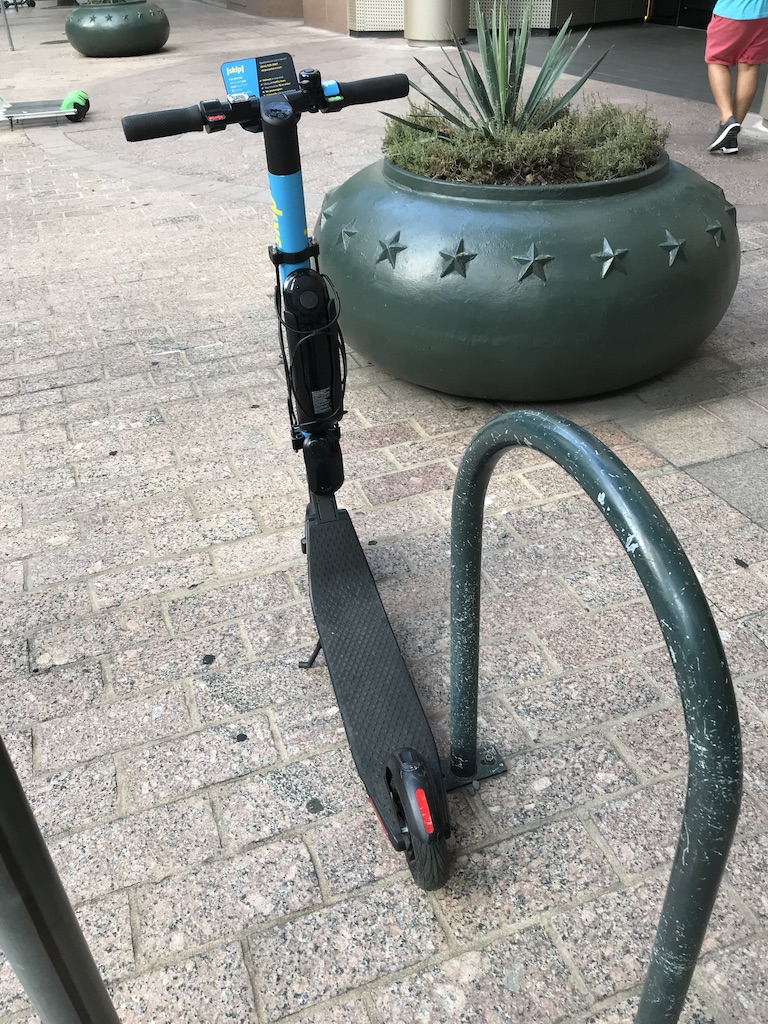scooter: (120, 52, 453, 896), (1, 92, 90, 125)
